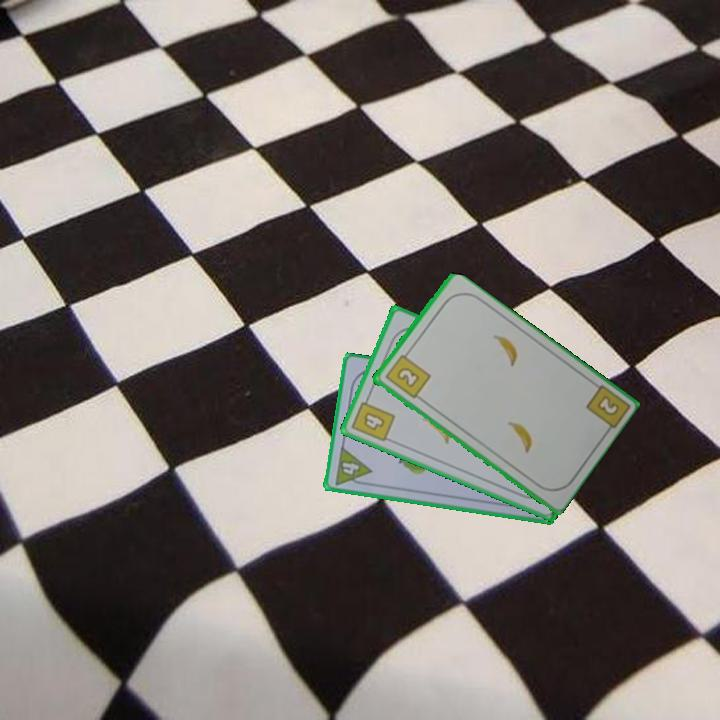2b: (381, 347, 433, 401), (593, 392, 622, 419)
4b: (348, 392, 398, 445)
4p: (331, 443, 374, 489)
